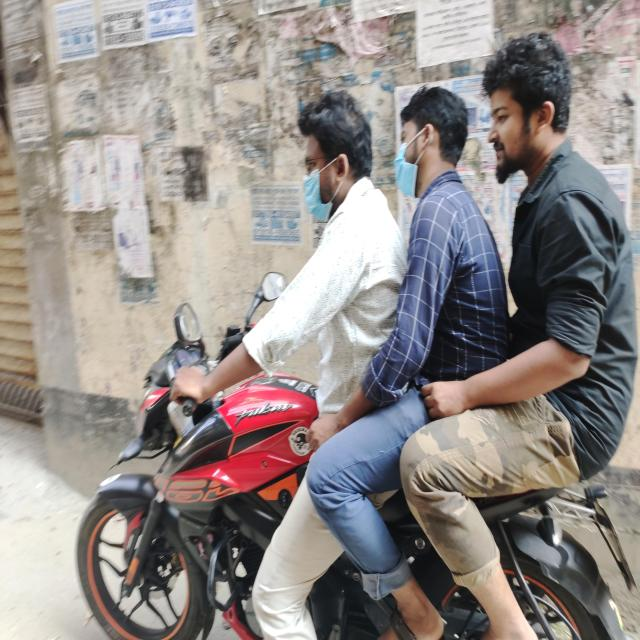triple_rider: (74, 31, 640, 640)
